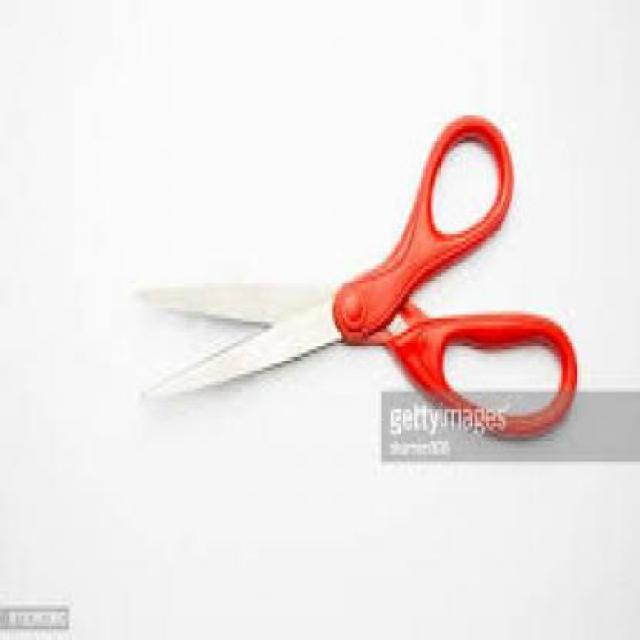scissors: (139, 114, 579, 440)
